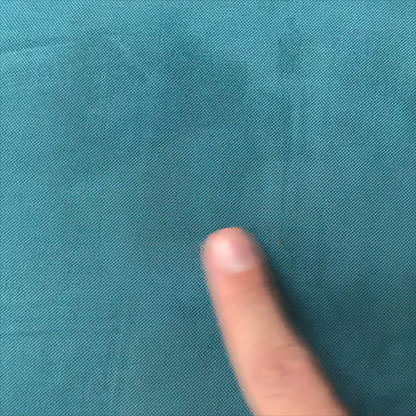fingertip: (193, 221, 286, 287)
